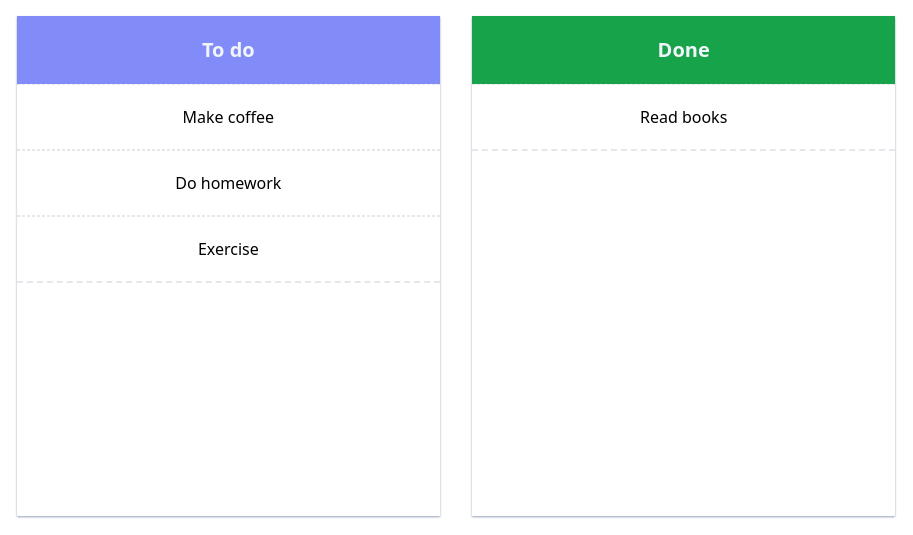
Test case: TODO › should delete item from list after click inside done
Note: get button which has 'Read Books' text on it
Click the button "Read books" at {"x": 684, "y": 118}, box top-left (472, 84), bottom-right (895, 151)
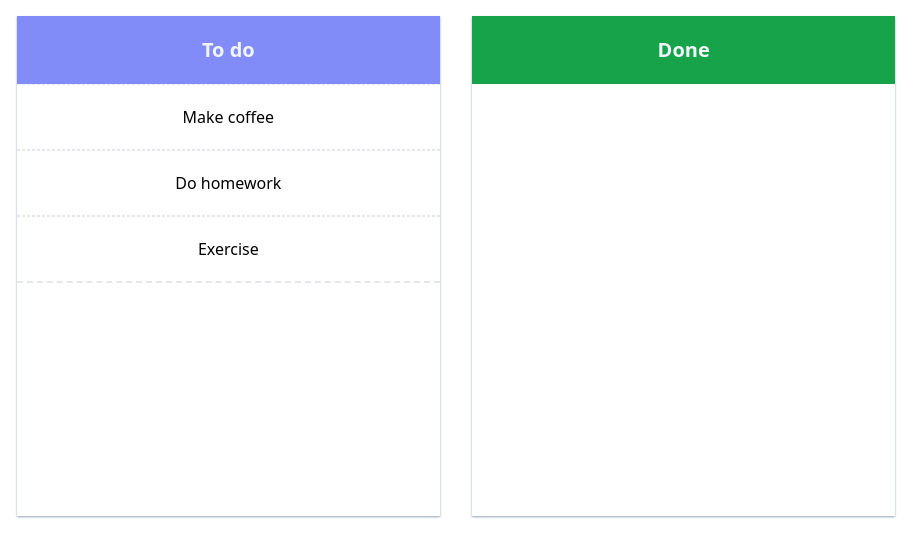
Expected: the button "Read books" is gone
